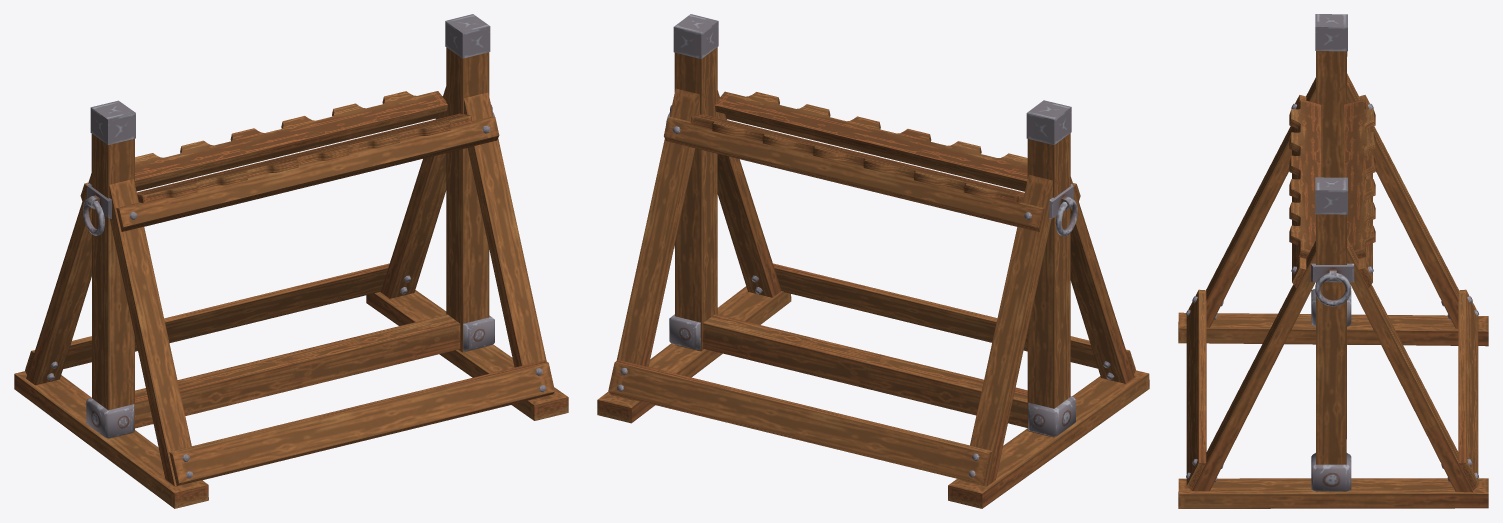
3 renders of one model, left to right at view 1: azimuth 30°, elevation 25°; view 2: azimuth 150°, elevation 25°; view 3: azimuth 270°, elevation 25°, orthographic. The views are drawn at different scales.
Visible parts, largest first — view 1: 71361f5f0e3651cbf9e718aa09a4ed053c36007d4373acffa9b28be748bc; view 2: 71361f5f0e3651cbf9e718aa09a4ed053c36007d4373acffa9b28be748bc; view 3: 71361f5f0e3651cbf9e718aa09a4ed053c36007d4373acffa9b28be748bc.
Part boxes in pixels (x1=…): 71361f5f0e3651cbf9e718aa09a4ed053c36007d4373acffa9b28be748bc: x1=14, y1=14, x2=568, y2=508; 71361f5f0e3651cbf9e718aa09a4ed053c36007d4373acffa9b28be748bc: x1=597, y1=14, x2=1149, y2=508; 71361f5f0e3651cbf9e718aa09a4ed053c36007d4373acffa9b28be748bc: x1=1178, y1=14, x2=1488, y2=508.
Bounding box in the file's own units: 1.39 × 1.11 × 0.9831.
Materials: 2 (2 with a texture image).
